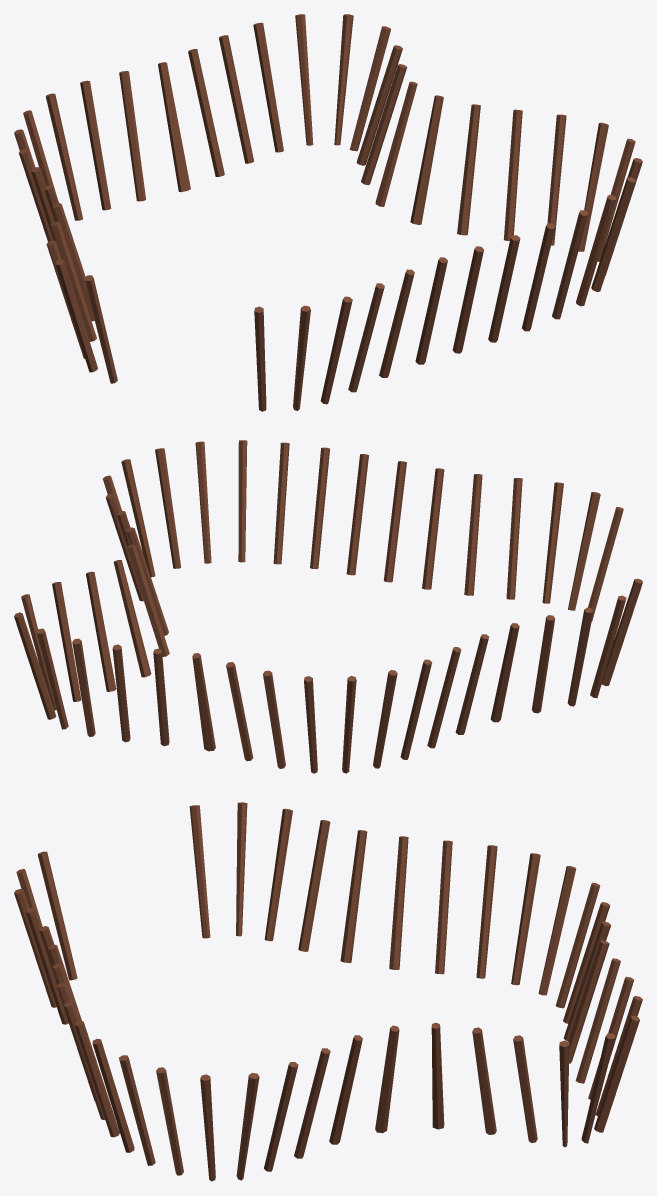
The model's file is barrier.fbx.
The picture shows the model from 3 angles, top to bottom: view 1: azimuth 30°, elevation 25°; view 2: azimuth 150°, elevation 25°; view 3: azimuth 270°, elevation 25°; orthographic projection. The views are drawn at different scales.
Parts seen in each view (by area): view 1: Cylinder; view 2: Cylinder; view 3: Cylinder.
Boxes of the visible parts, x1,y1,x2,y2 form: Cylinder: [14, 14, 642, 411]; Cylinder: [14, 440, 642, 773]; Cylinder: [14, 802, 642, 1181].
Size of the model in its own units: 654 by 130 by 625.
